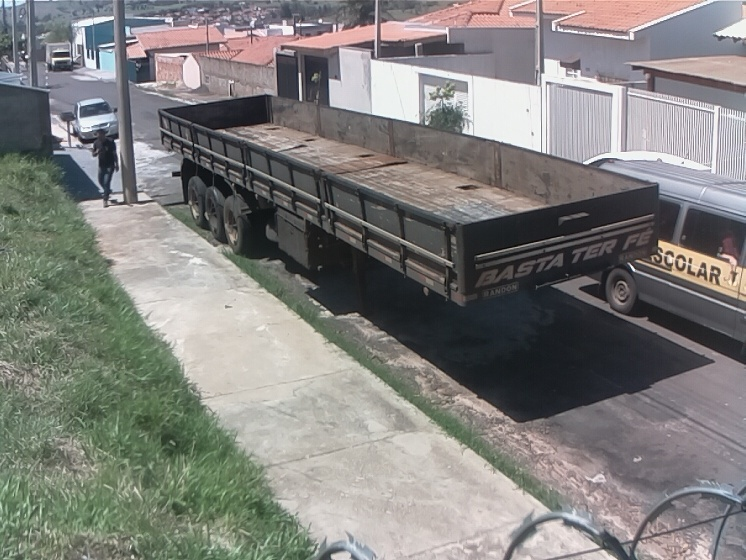person: (89, 127, 122, 209)
